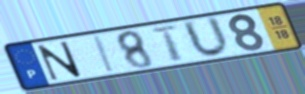8: (115, 29, 155, 70), (227, 13, 266, 52)
I: (92, 33, 118, 74)
N: (36, 40, 85, 82)
T: (148, 24, 186, 63)
U: (180, 15, 233, 60)
